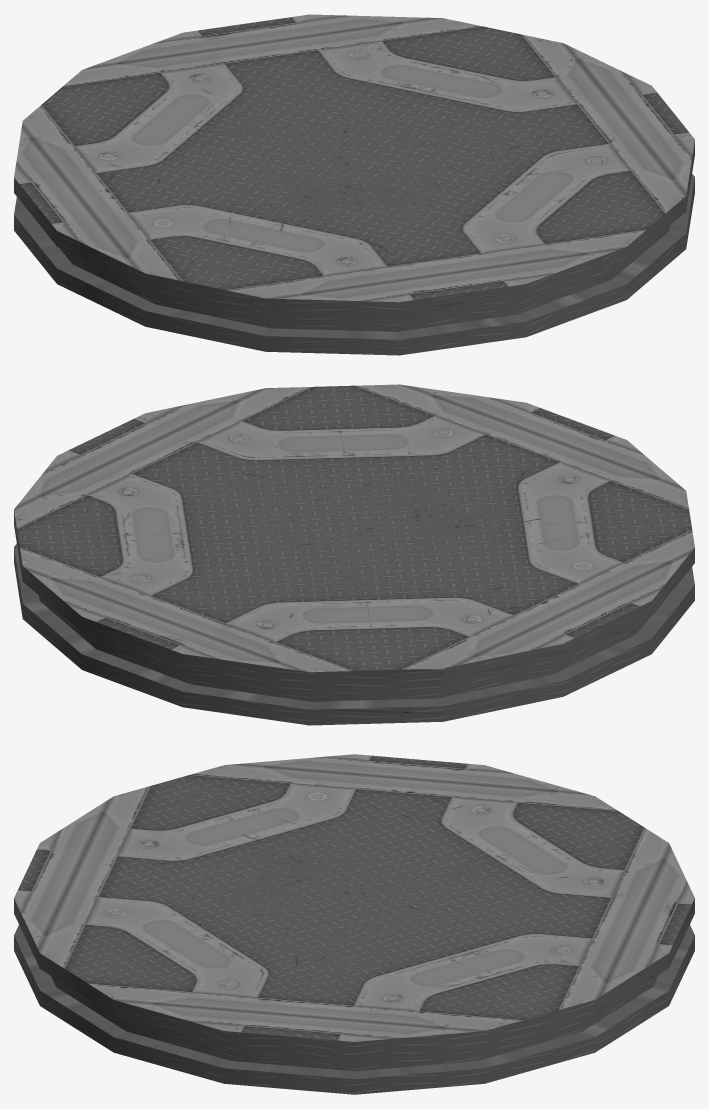
The model's file is platformm.fbx.
3 renders of one model, top to bottom at view 1: azimuth 30°, elevation 25°; view 2: azimuth 150°, elevation 25°; view 3: azimuth 270°, elevation 25°, orthographic.
Parts seen in each view (by area): view 1: Cylinder; view 2: Cylinder; view 3: Cylinder.
Boxes of the visible parts, box(x1,y1,x2,y2) form: Cylinder: box(14, 14, 694, 355); Cylinder: box(14, 384, 694, 725); Cylinder: box(14, 754, 694, 1094).
Bounding box in the file's own units: 688 × 58.84 × 688.
